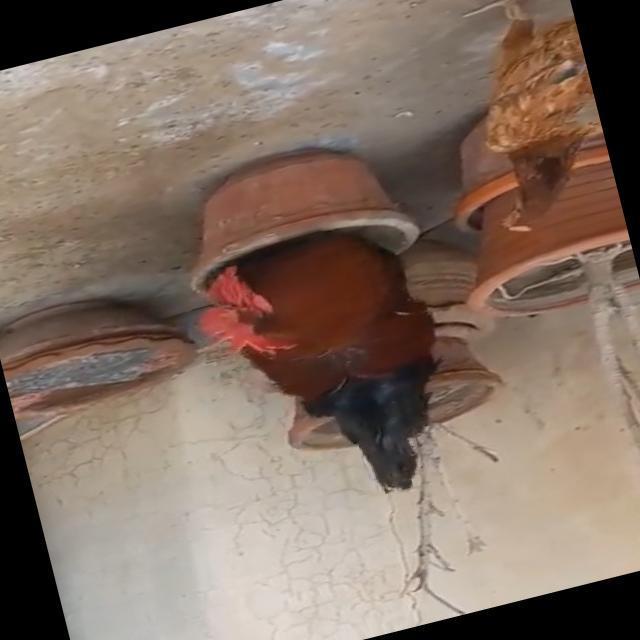stand bath: (178, 200, 500, 548)
